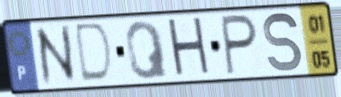D: (74, 21, 115, 86)
H: (164, 14, 214, 81)
N: (32, 22, 80, 89)
P: (219, 12, 260, 78)
Q: (123, 19, 170, 82)
S: (261, 10, 305, 75)
